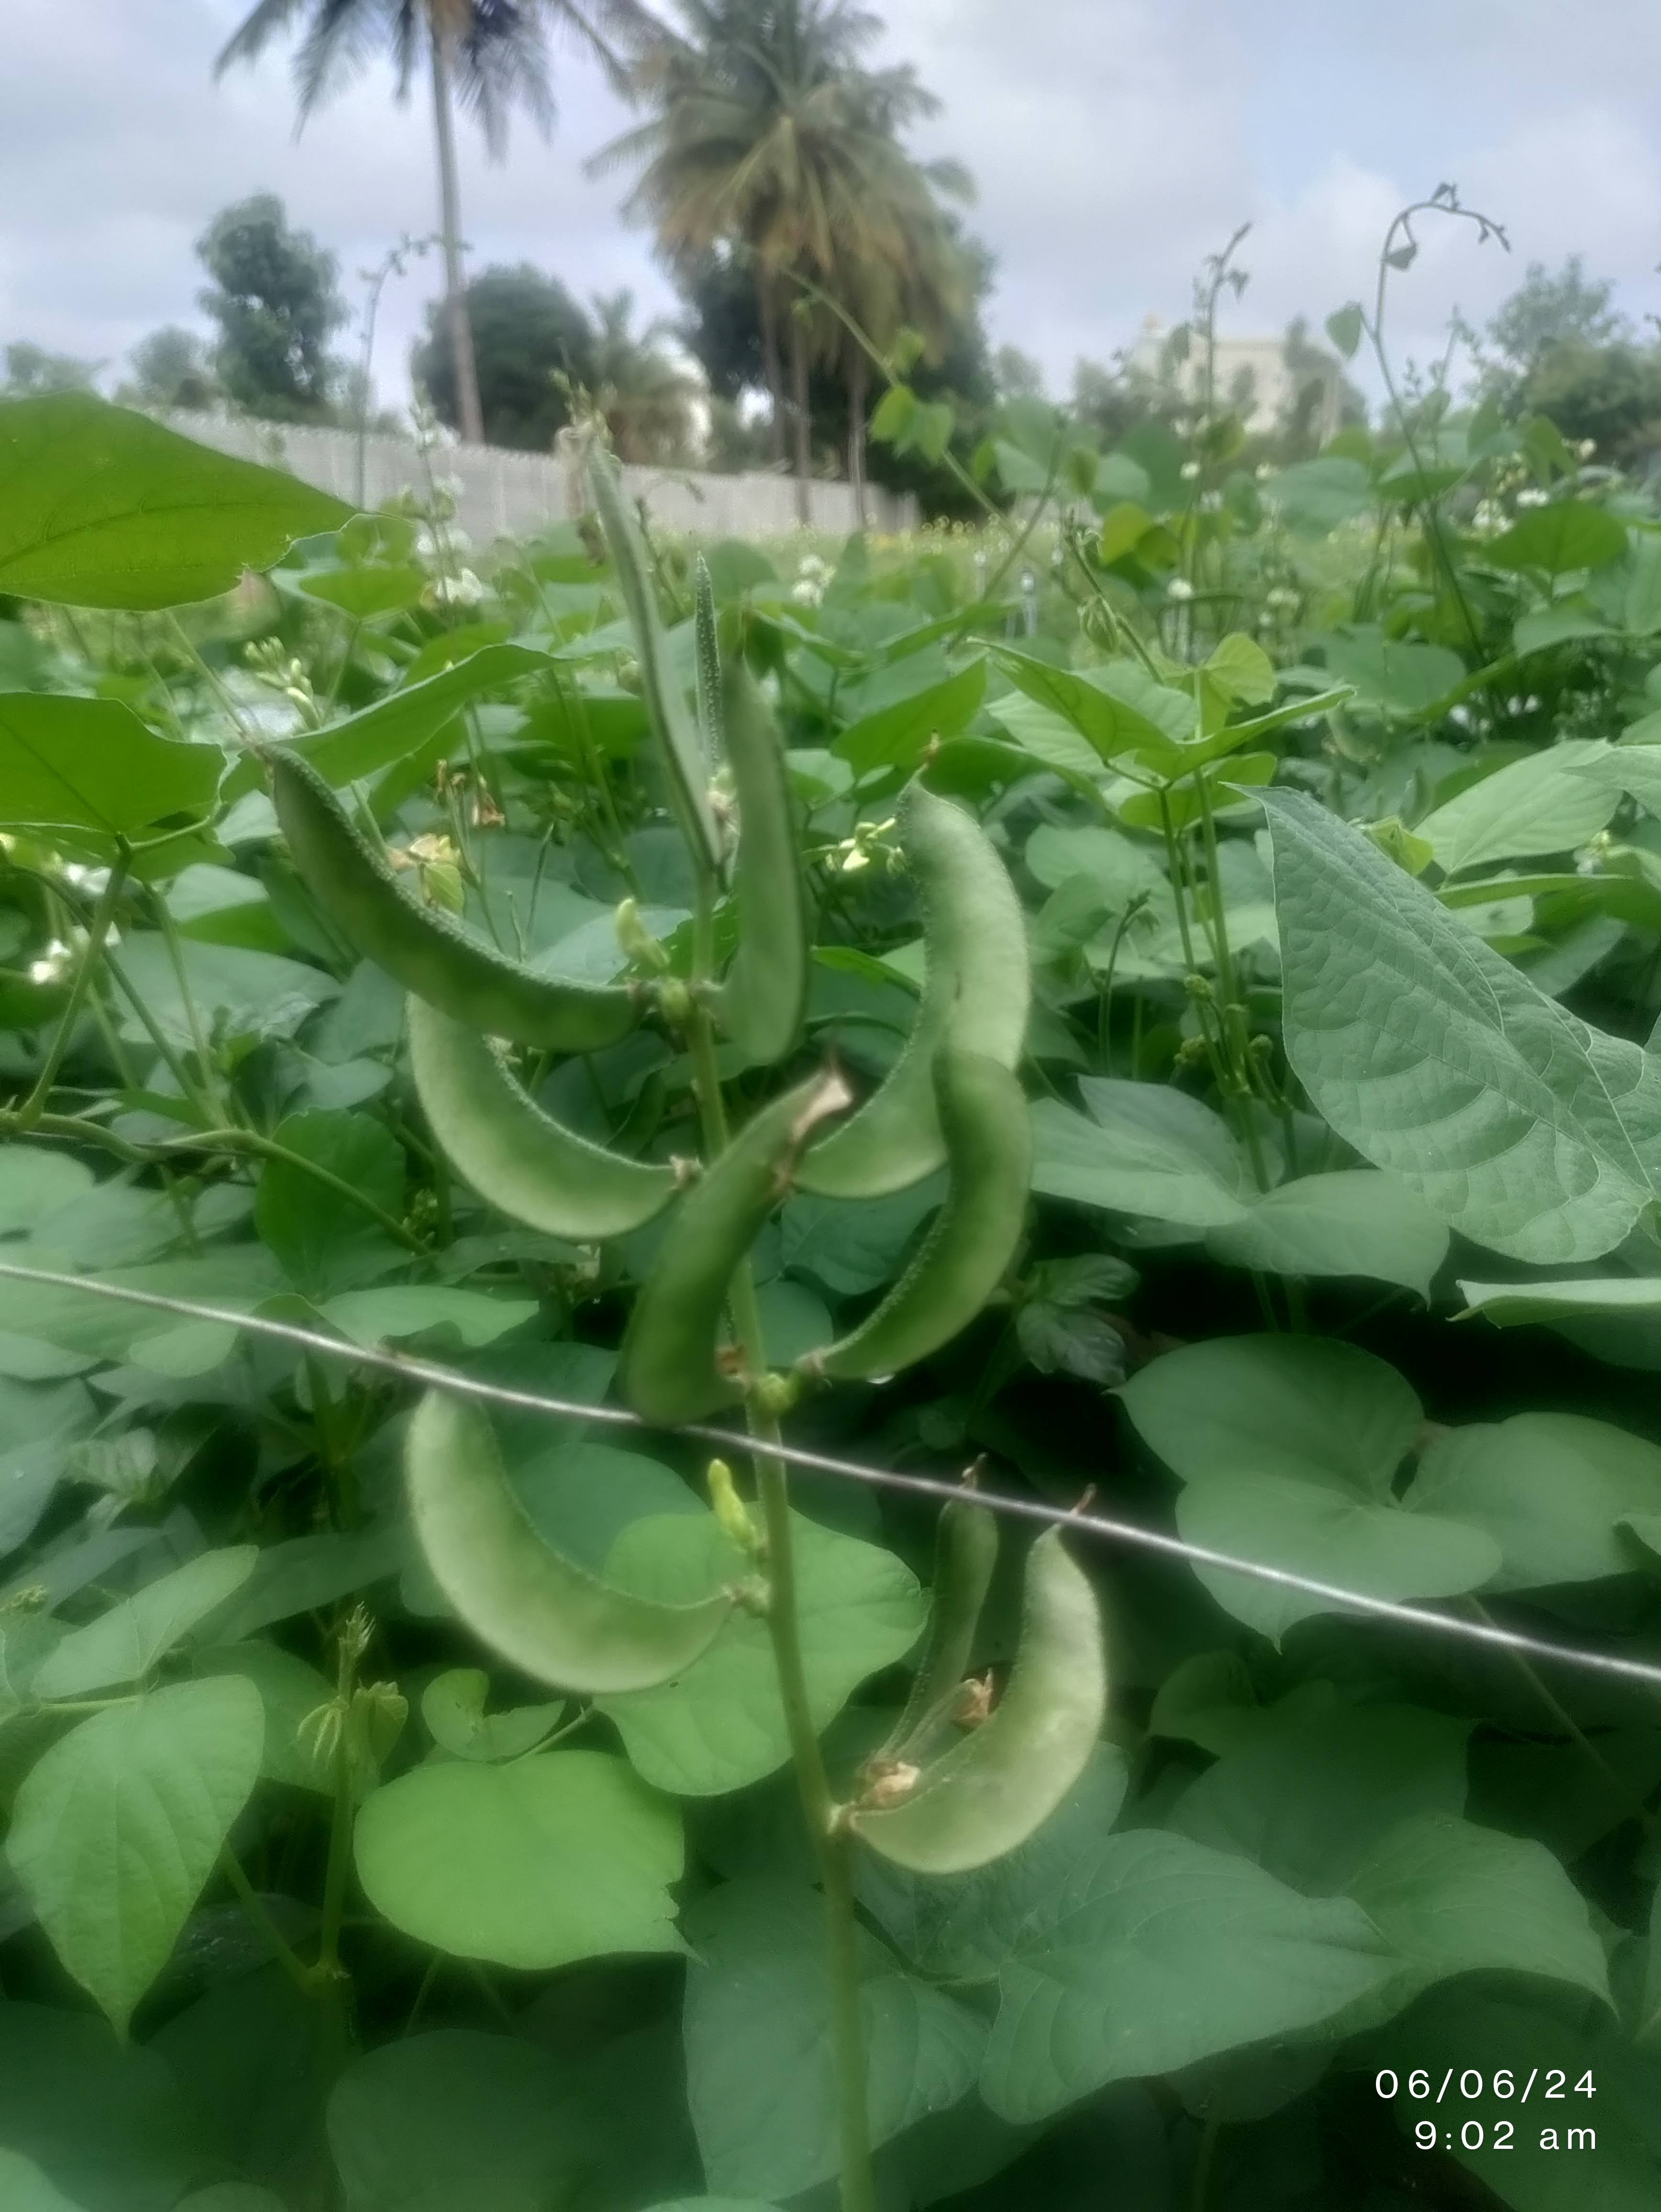not-good-to-harvest: (241, 181, 1305, 2149)
